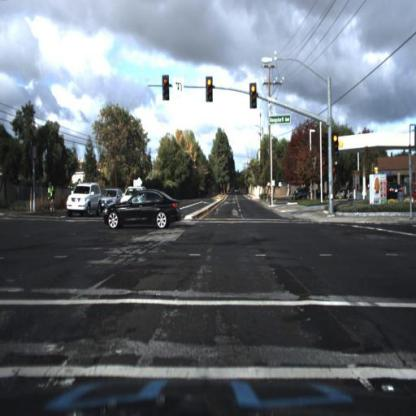biker: (47, 182, 56, 215)
car: (104, 191, 183, 233), (122, 186, 156, 225), (70, 182, 104, 220), (101, 186, 126, 213)
trafficLight-Red: (205, 78, 215, 107), (252, 84, 259, 113), (333, 132, 341, 154), (332, 134, 339, 157), (207, 79, 213, 99)
trafficLight-RedLeft: (162, 75, 170, 104)
